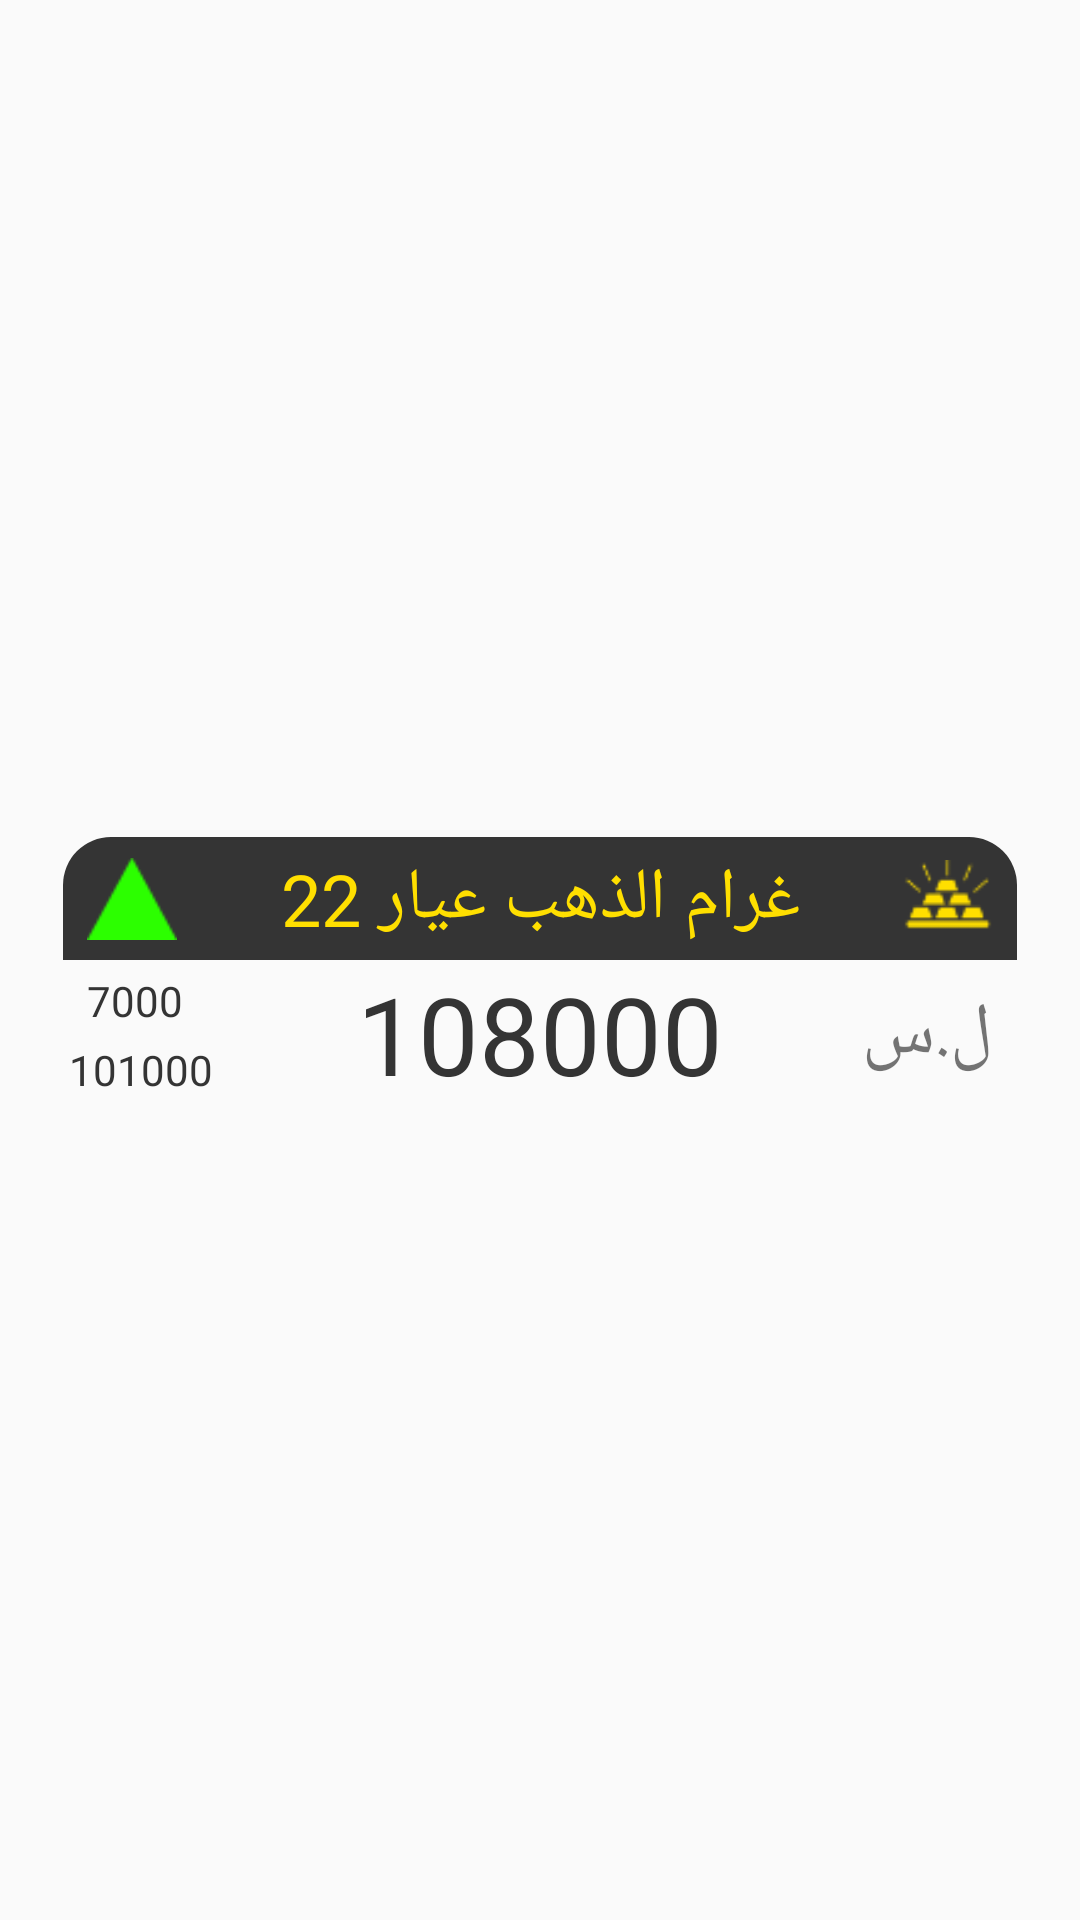

Where to tap for icons on this 1080x1920 app screen, as [x,y]:
arrow: [132,899]
